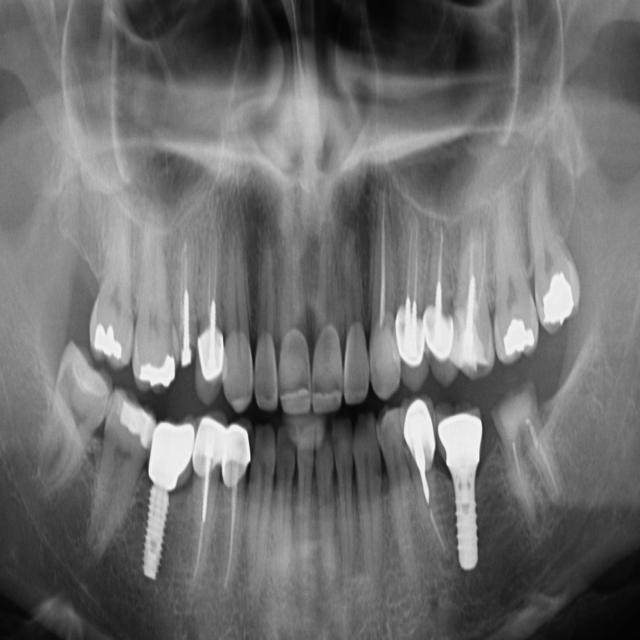dolgu: (534, 268, 576, 324), (453, 319, 491, 369), (118, 397, 153, 446), (504, 311, 539, 357), (136, 351, 176, 388), (91, 319, 124, 363)
implant: (437, 405, 490, 579), (140, 412, 190, 590)
kanal-tedavisi: (494, 419, 576, 509), (406, 465, 458, 579), (360, 180, 395, 338), (390, 197, 430, 329), (160, 244, 200, 374), (455, 215, 499, 331), (188, 457, 222, 593), (192, 237, 229, 345), (220, 456, 247, 600), (426, 206, 454, 317)
kaplama: (402, 406, 436, 462), (419, 305, 453, 361), (392, 308, 425, 361), (223, 424, 251, 476), (194, 421, 224, 466), (199, 329, 225, 379)
